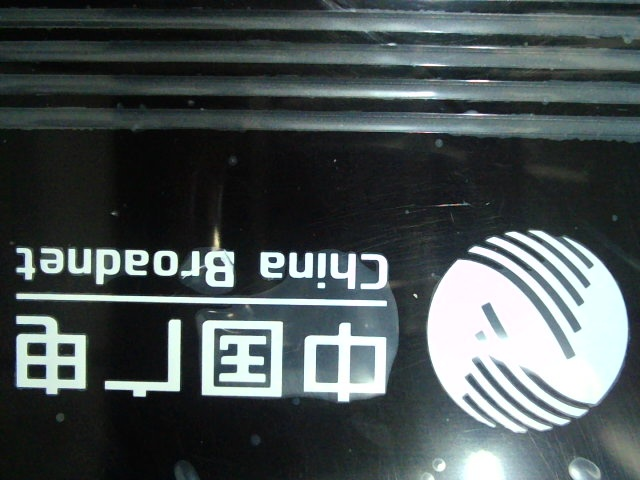AW_ChinaBroadNet: (7, 227, 636, 439)
